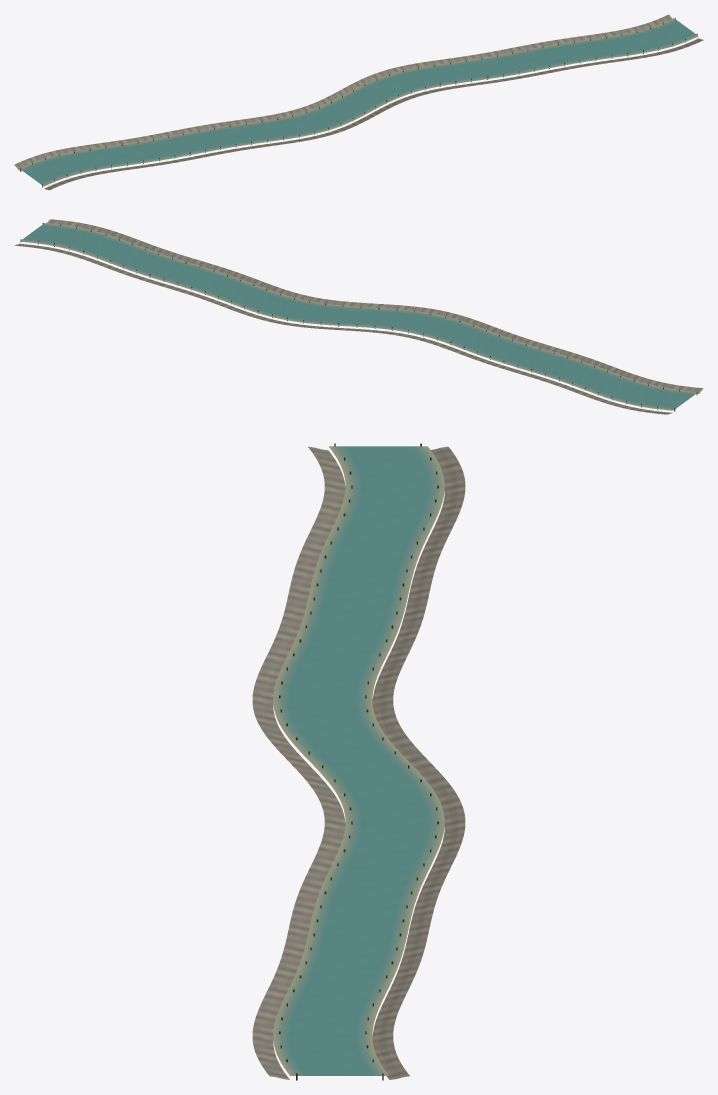
File: river.glb
3 views of the same model, one above another, from view 1: azimuth 30°, elevation 25°; view 2: azimuth 150°, elevation 25°; view 3: azimuth 270°, elevation 25° (orthographic). The views are drawn at different scales.
Parts seen in each view (by area): view 1: river_water, revetment_1, revetment_-1; view 2: river_water, revetment_-1, revetment_1; view 3: river_water, revetment_-1, revetment_1.
Part boxes in pixels (<box>): river_water: <box>19,18,698,186</box>; revetment_1: <box>14,14,672,170</box>; revetment_-1: <box>44,38,703,190</box>; river_water: <box>20,223,698,410</box>; revetment_-1: <box>47,219,703,393</box>; revetment_1: <box>14,243,672,414</box>; river_water: <box>273,446,444,1075</box>; revetment_-1: <box>252,446,345,1079</box>; revetment_1: <box>372,446,465,1079</box>.
Size of the model in its own units: 180 by 0.9 by 25.72.
